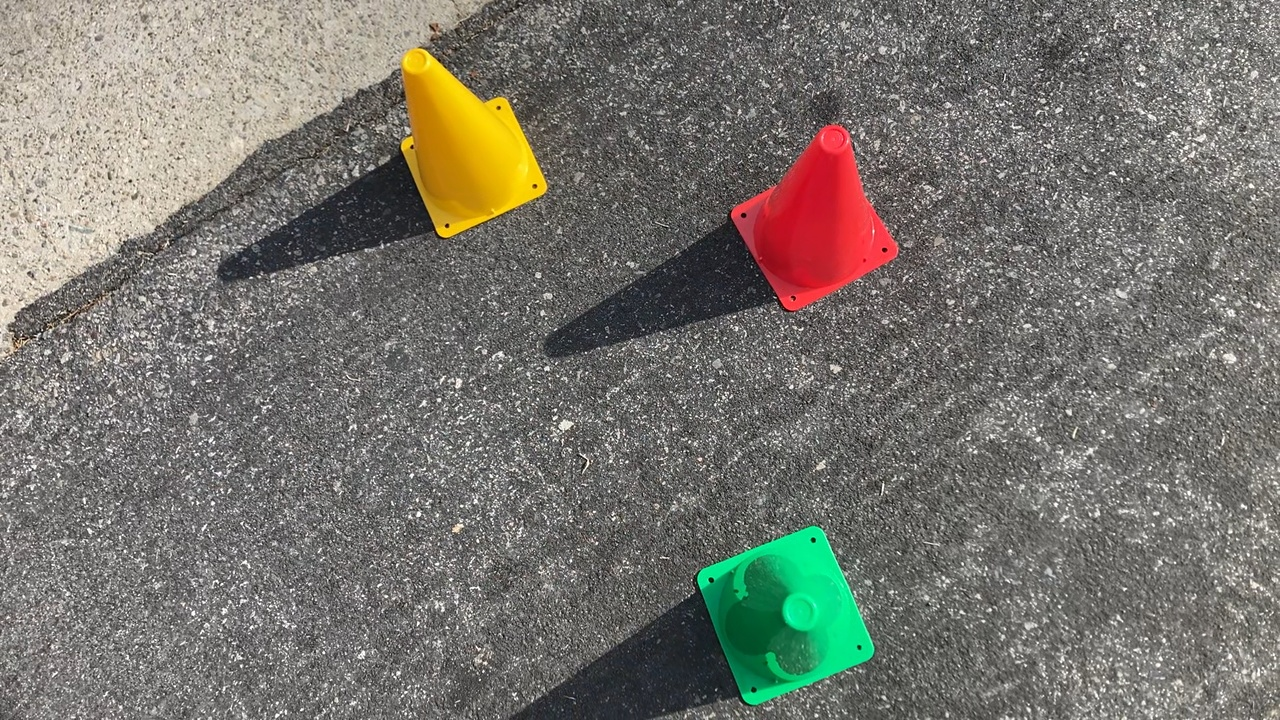green_cone: (692, 522, 878, 707)
red_cone: (726, 121, 904, 315)
yellow_cone: (389, 42, 553, 240)
